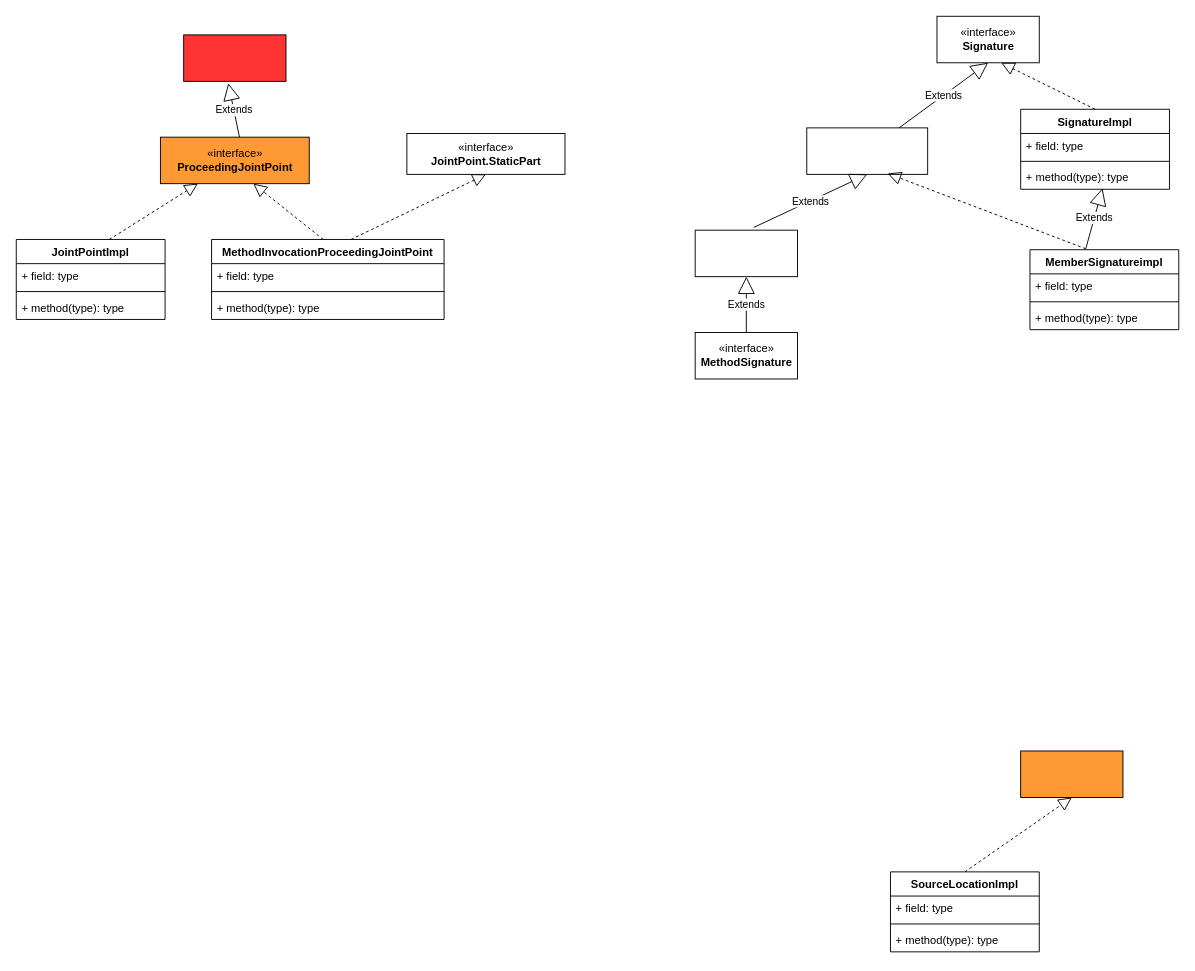
Image size: 1195x971. Some labels were removed from this diagram. The centre of each missing label's shape, as x and y in pixels:
"«interface» CodeSignature" goes at [745,253].
"«interface» JointPoint" goes at [234,57].
"«interface» MemberSignature" goes at [867,150].
"«interface» SourceLocation" goes at [1071,773].
